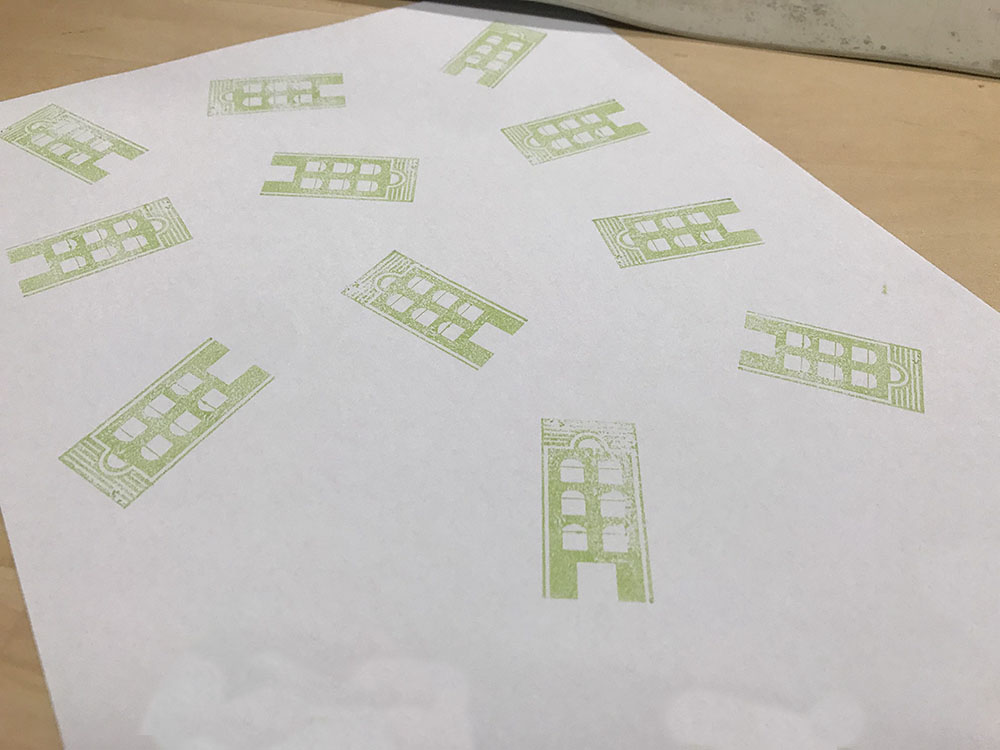build: (38, 326, 287, 516), (514, 402, 681, 624), (323, 235, 546, 388), (708, 302, 947, 432), (1, 191, 202, 317), (235, 137, 444, 227), (581, 186, 780, 280), (1, 96, 166, 186), (484, 92, 661, 169), (424, 8, 563, 98), (193, 66, 373, 131)
